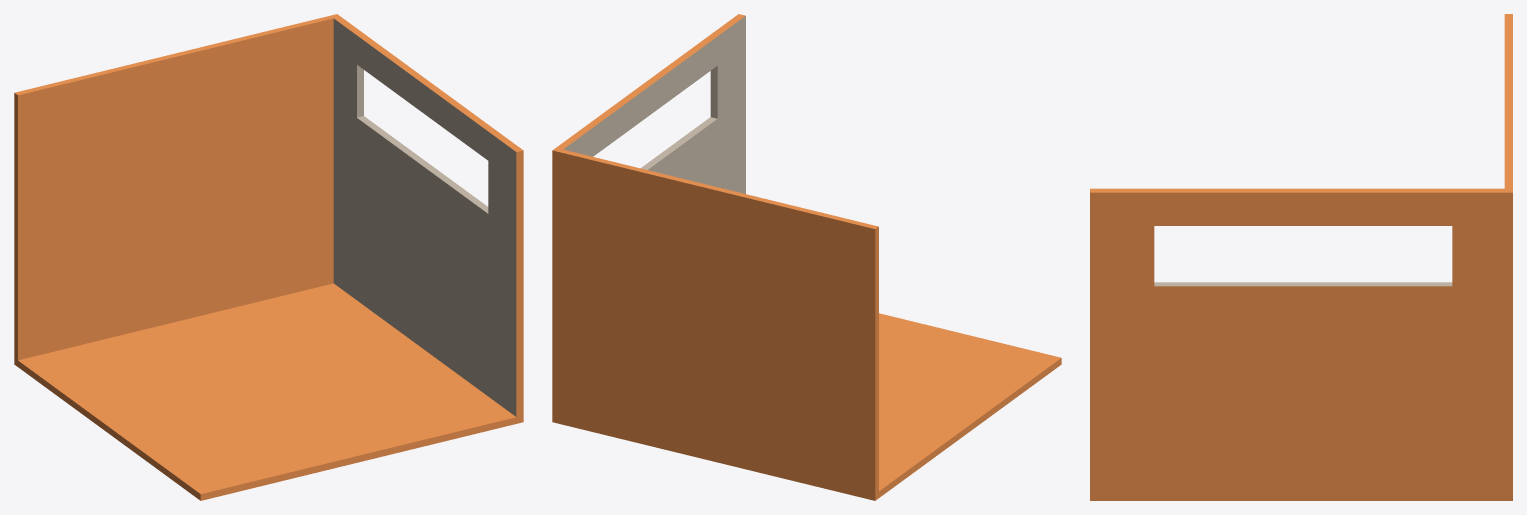
File: Gym_base1.fbx
3 renders of one model, left to right at view 1: azimuth 30°, elevation 25°; view 2: azimuth 150°, elevation 25°; view 3: azimuth 270°, elevation 25°, orthographic. The views are drawn at different scales.
Visible parts, largest first — view 1: Gym_base1; view 2: Gym_base1; view 3: Gym_base1.
Boxes of the visible parts, left/top/right/bottom form: Gym_base1: left=14, top=14, right=523, bottom=500; Gym_base1: left=552, top=14, right=1061, bottom=500; Gym_base1: left=1090, top=14, right=1512, bottom=500.
Bounding box in the file's own units: 500 × 500 × 402.
